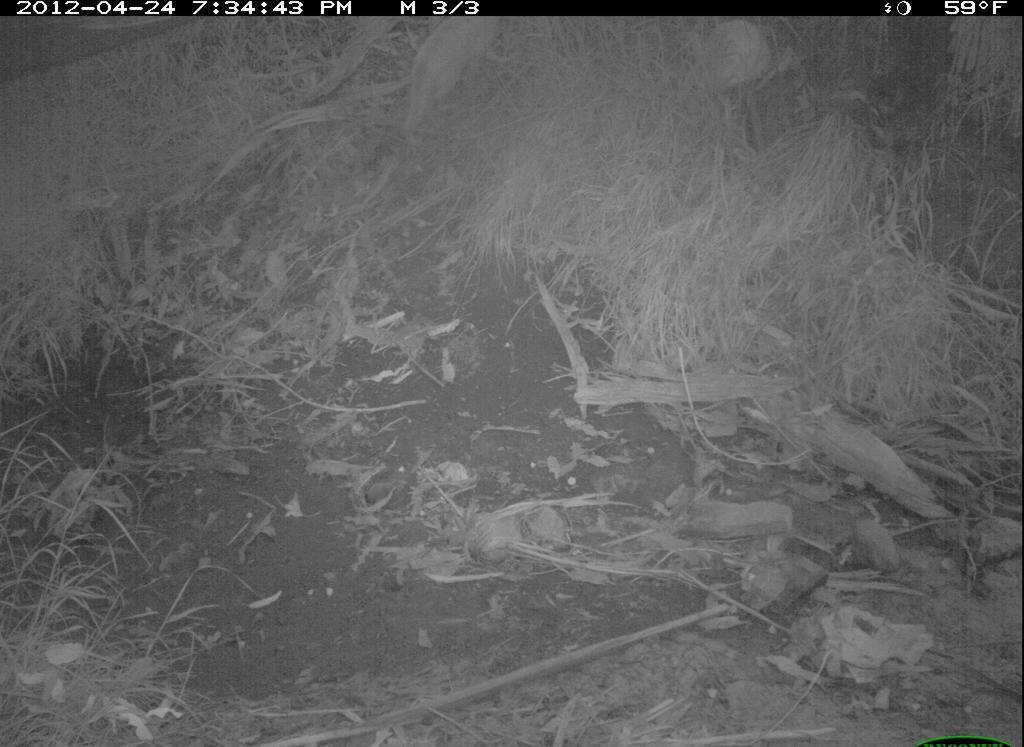cat: (402, 17, 504, 139)
